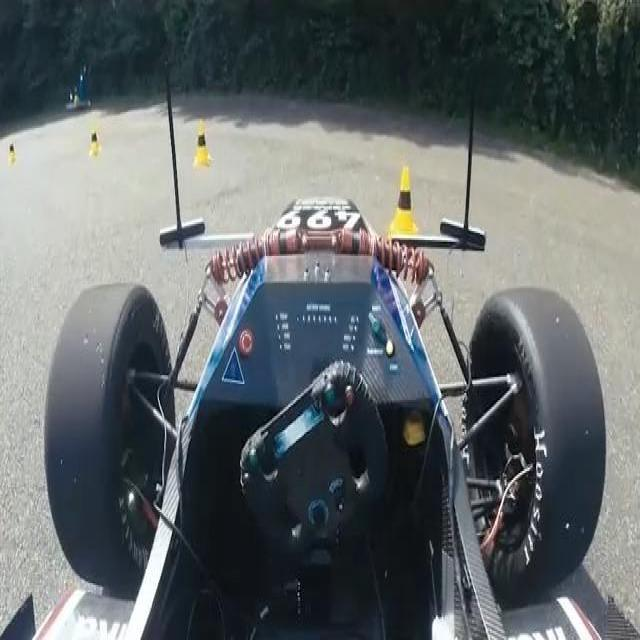yellow_cone: (382, 169, 425, 248), (192, 125, 210, 164), (87, 125, 104, 158), (5, 137, 18, 162)
